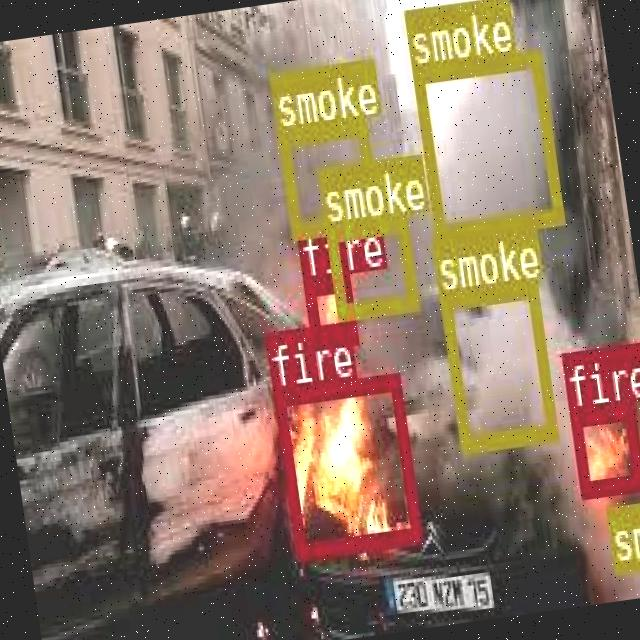fire: (272, 372, 420, 558), (567, 400, 640, 496), (302, 271, 356, 348)
smoke: (411, 47, 562, 238), (437, 278, 557, 452), (277, 118, 379, 237), (324, 214, 418, 316), (605, 501, 640, 572)
